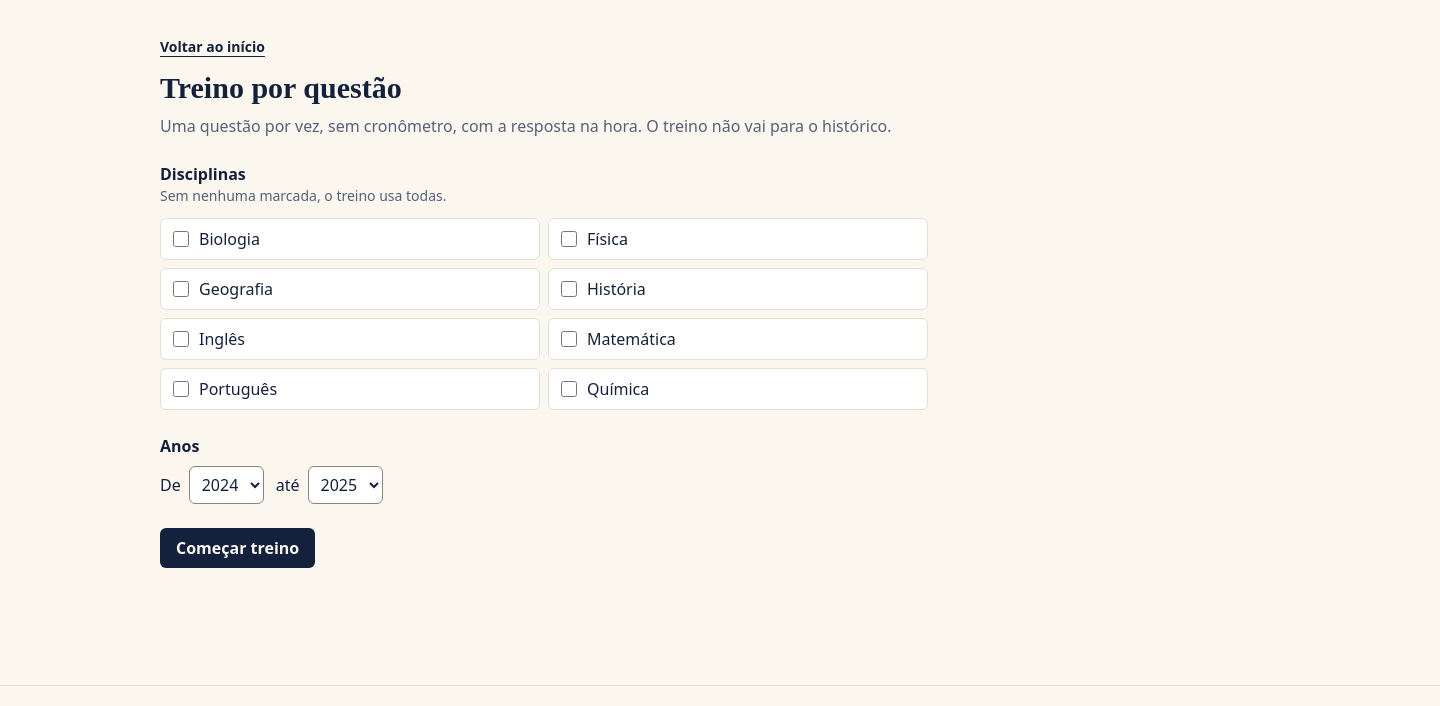
Treino por questão (RF-012) › responde, vê a resposta na hora e o placar
The image size is (1440, 706).
What coordinates should you click on to do the following:
click the button "Começar treino"
I would click on:
 (238, 548)
Its box is [160,528,315,568].
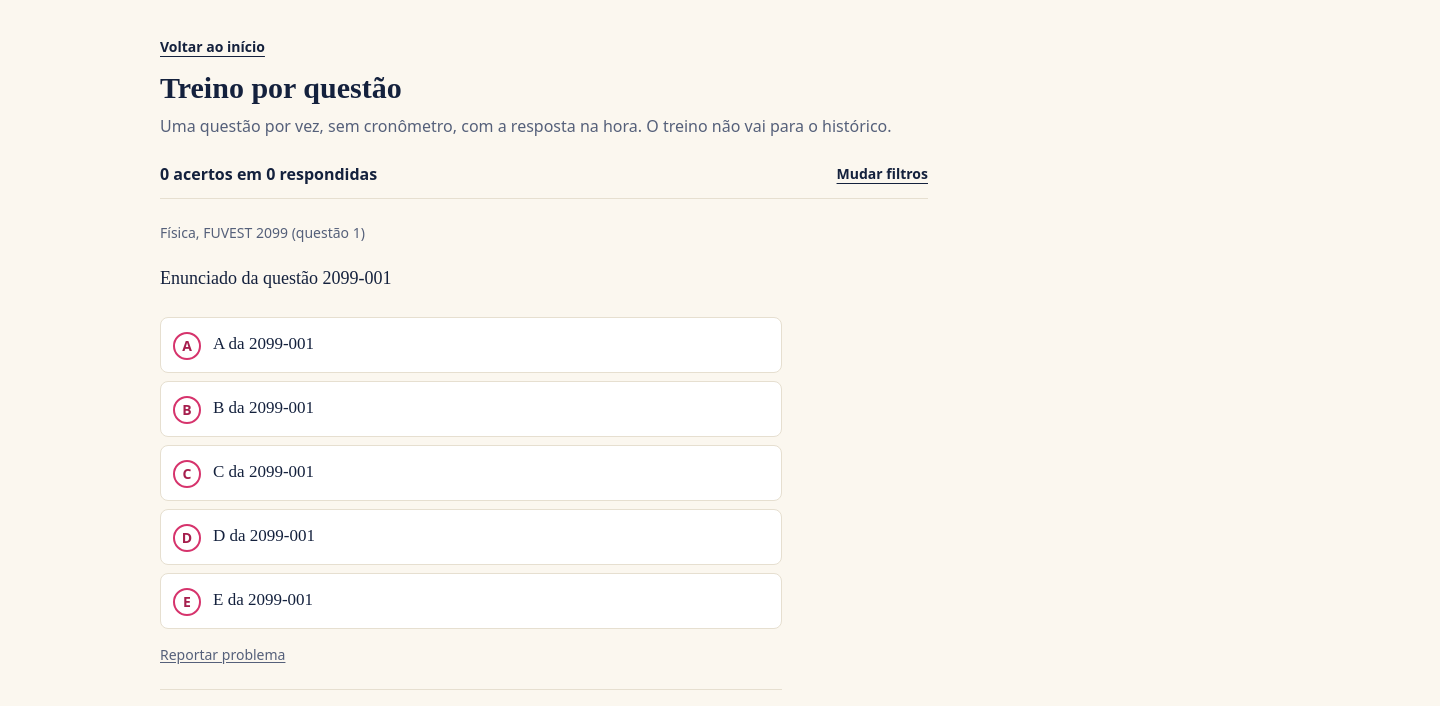
Expected: the text "Enunciado da questão 2099-001" is shown, [160,268,392,288]
What coordinates should you click on to do the following:
click the radio button with aria-label "Alternativa B"
I would click on:
 (264, 408)
Its box is [160,381,782,437].
(page scrolled)
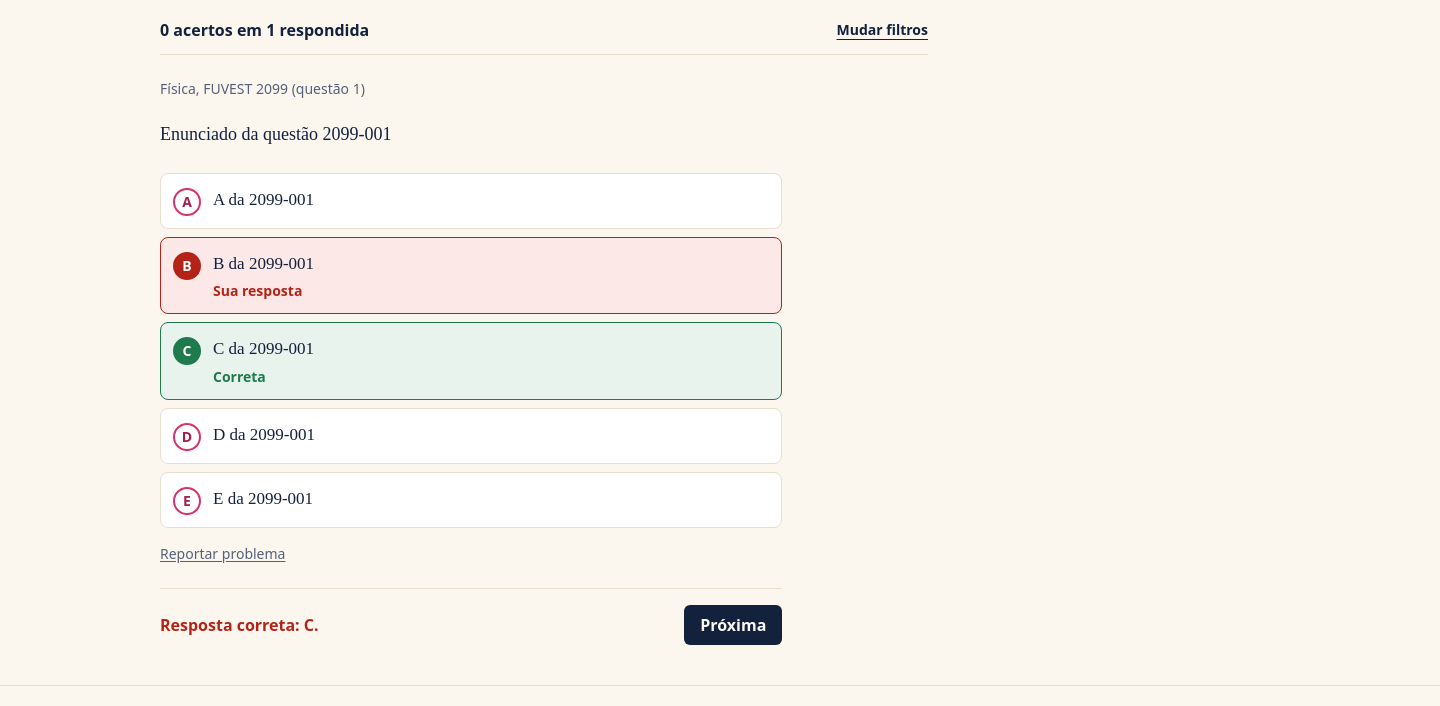
Expected: the text "Resposta correta: C." is shown, [160,613,319,637]
Expected: the radio button with aria-label "Alternativa C" shows "Correta", [160,322,782,400]
Expected: the radio button with aria-label "Alternativa C" is disabled, [160,322,782,400]
What coordinates should you click on to do the following:
click the button with aria-label "Próxima questão"
I would click on:
 (733, 625)
Its box is [684,605,782,645].
(page scrolled)
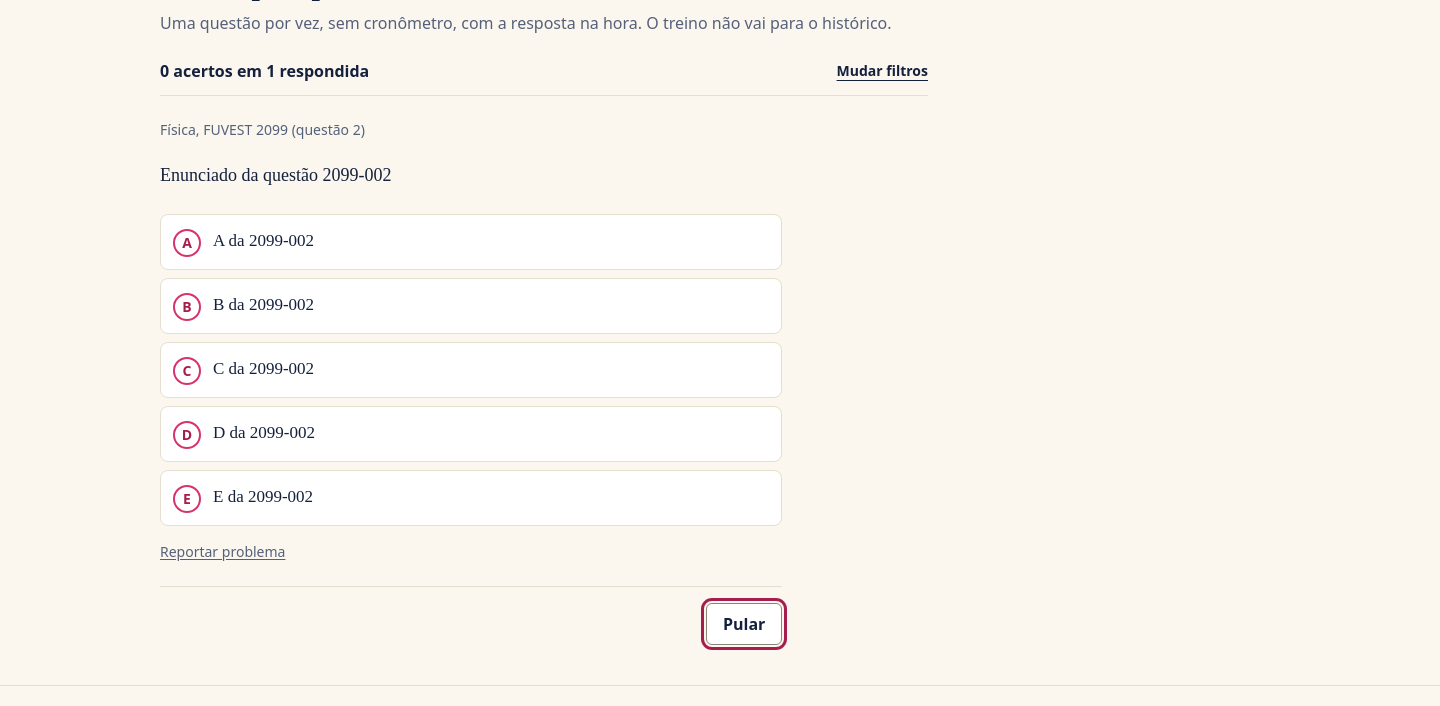
Expected: the text "Enunciado da questão 2099-002" is shown, [160,165,392,185]
What coordinates should you click on to do the following:
click the radio button with aria-label "Alternativa C"
I would click on:
 (264, 369)
Its box is [160,342,782,398].
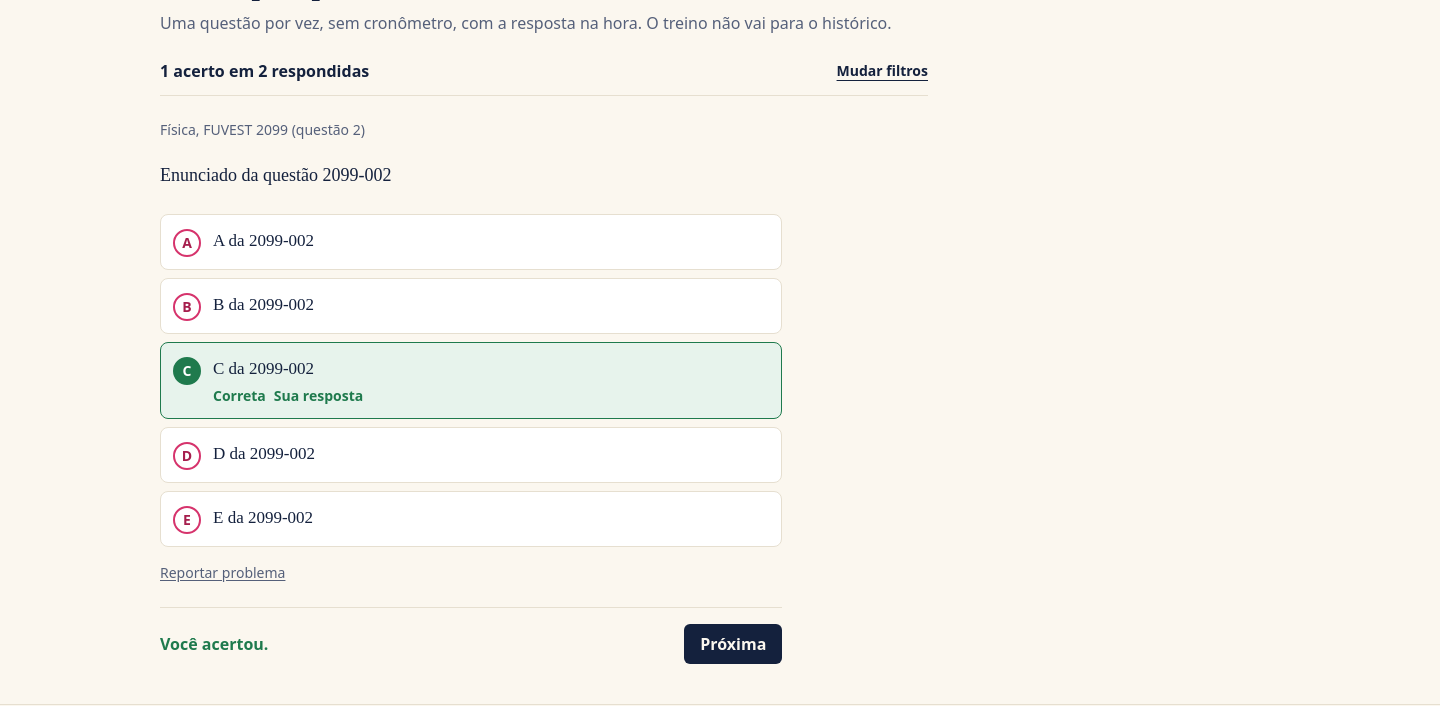
Expected: the text "Você acertou." is shown, [160,632,268,656]
Expected: the text "1 acerto em 2 respondidas" is shown, [160,59,369,83]
